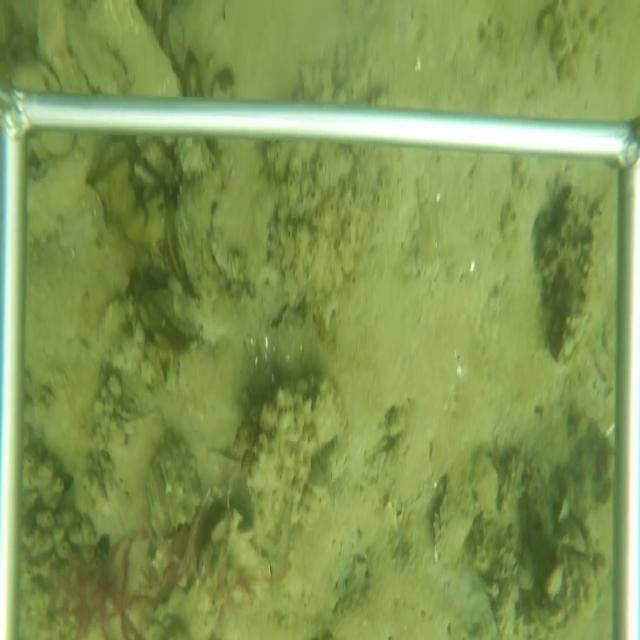Oyster-Open: (164, 180, 205, 303)
